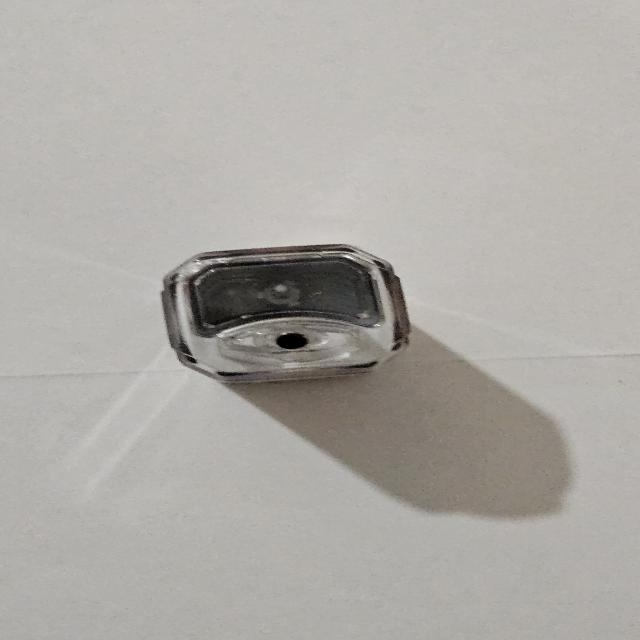Hazard: (160, 242, 412, 384)
